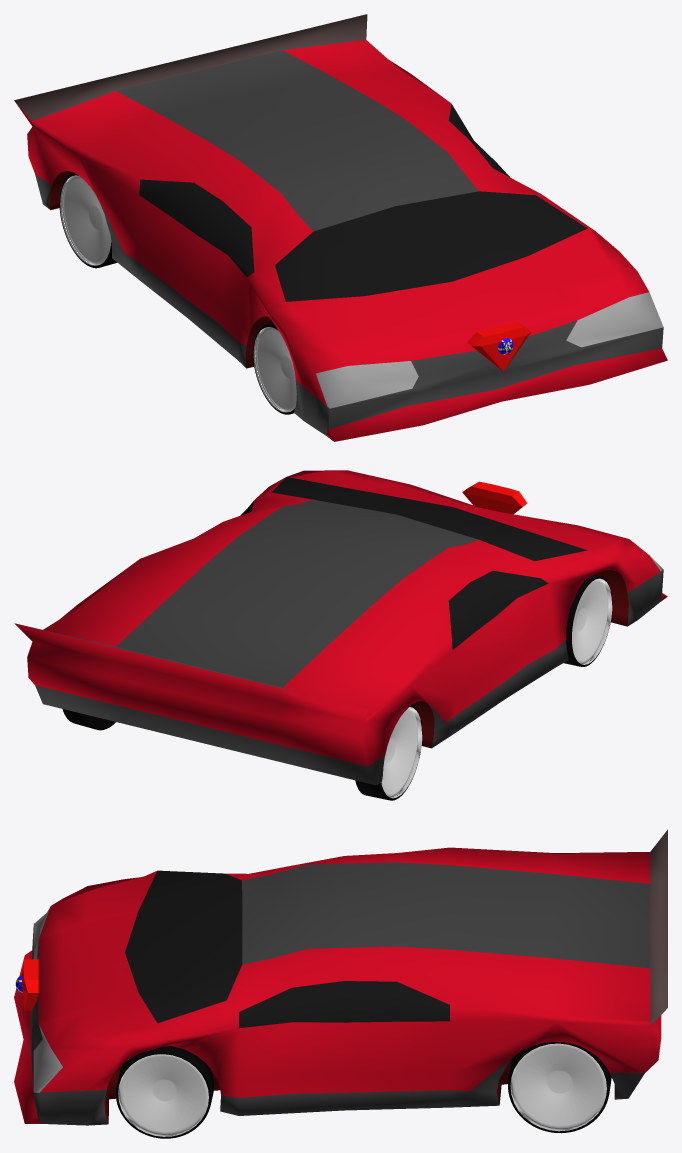
The model's file is Car-RKE.glb.
The picture shows the model from 3 angles, top to bottom: view 1: azimuth 30°, elevation 25°; view 2: azimuth 150°, elevation 25°; view 3: azimuth 270°, elevation 25°; orthographic projection. The views are drawn at different scales.
Parts seen in each view (by area): view 1: Cube, Cylinder.003, Sphere; view 2: Cube, Cylinder.003, Sphere; view 3: Cube, Cylinder.003, Sphere.
Part boxes in pixels (x1=…): Cube: x1=14, y1=14, x2=667, y2=441; Cylinder.003: x1=59, y1=173, x2=296, y2=414; Sphere: x1=467, y1=322, x2=531, y2=371; Cube: x1=14, y1=470, x2=667, y2=785; Cylinder.003: x1=62, y1=575, x2=612, y2=800; Sphere: x1=462, y1=481, x2=527, y2=514; Cube: x1=14, y1=829, x2=667, y2=1125; Cylinder.003: x1=116, y1=1042, x2=611, y2=1138; Sphere: x1=15, y1=959, x2=38, y2=1010.
Size of the model in its own units: 2 by 0.8191 by 3.1.
16 materials, 1 textured.
